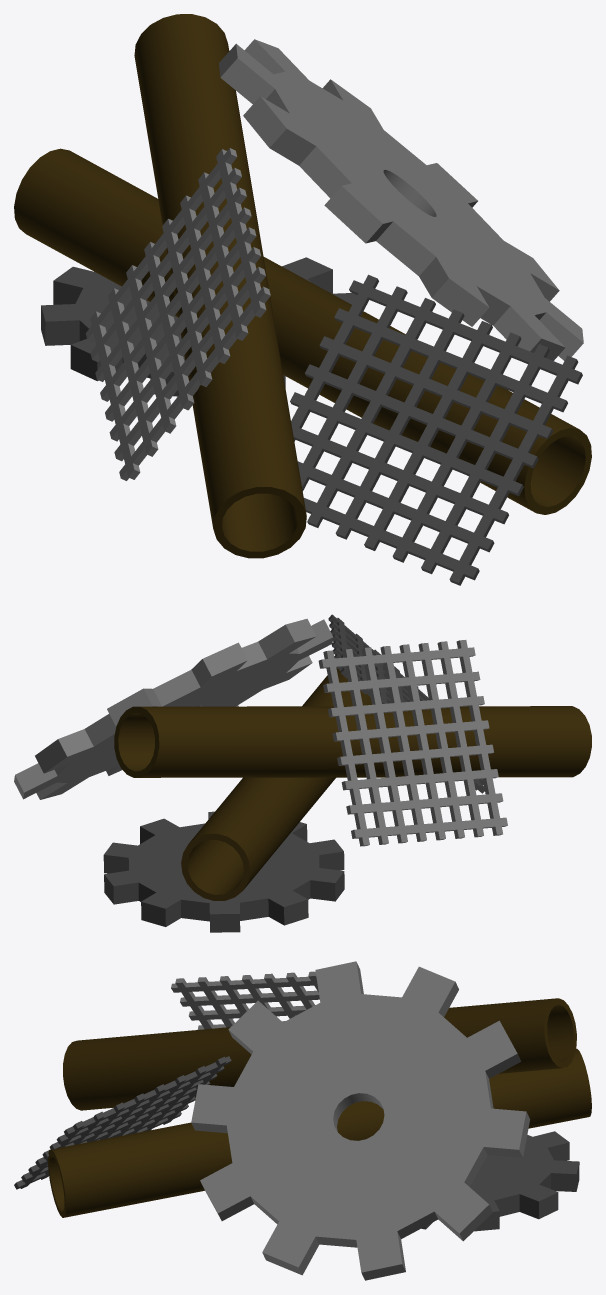
The model's file is Metal Scraps Texture.fbx.
3 renders of one model, top to bottom at view 1: azimuth 30°, elevation 25°; view 2: azimuth 150°, elevation 25°; view 3: azimuth 270°, elevation 25°, orthographic. The views are drawn at different scales.
Visible parts, largest first — view 1: pPipe5; view 2: pPipe5; view 3: pPipe5.
Part boxes in pixels (x1,y1,x2,y2): pPipe5: (14, 14, 591, 585); pPipe5: (14, 614, 591, 932); pPipe5: (14, 961, 591, 1280).
Bounding box in the file's own units: 1.19 × 0.6893 × 1.51.
